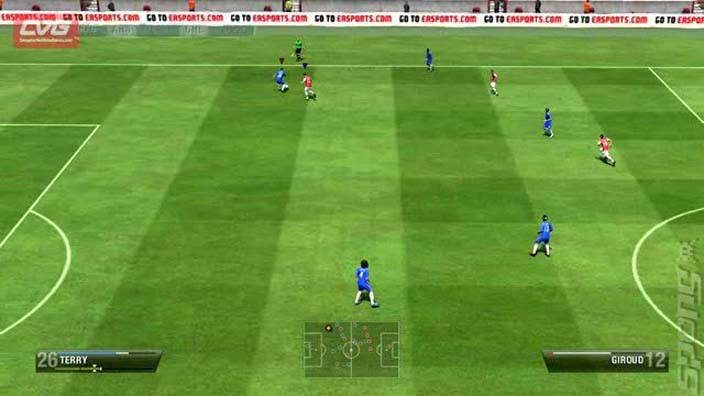ball: (282, 84, 292, 89)
player: (352, 258, 382, 306), (533, 214, 552, 255), (597, 134, 616, 165), (299, 74, 320, 98), (488, 68, 502, 98), (542, 105, 552, 137), (425, 46, 437, 69), (274, 65, 283, 92)
